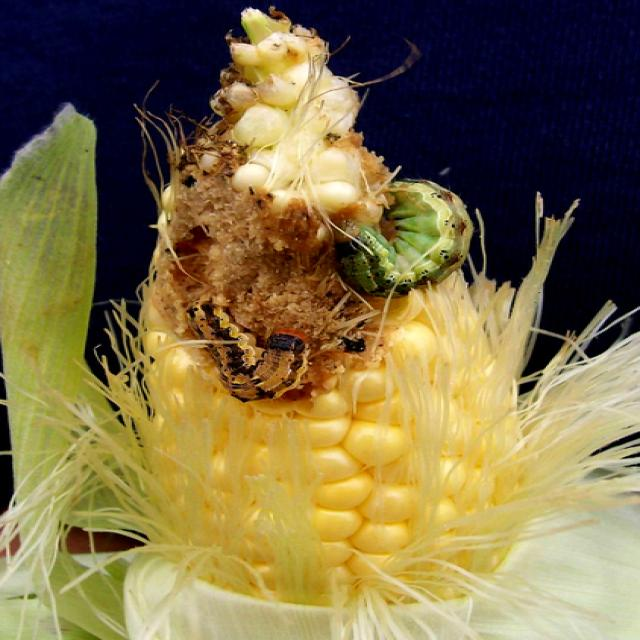Corn-earworm: (356, 167, 491, 306), (182, 298, 317, 402)
